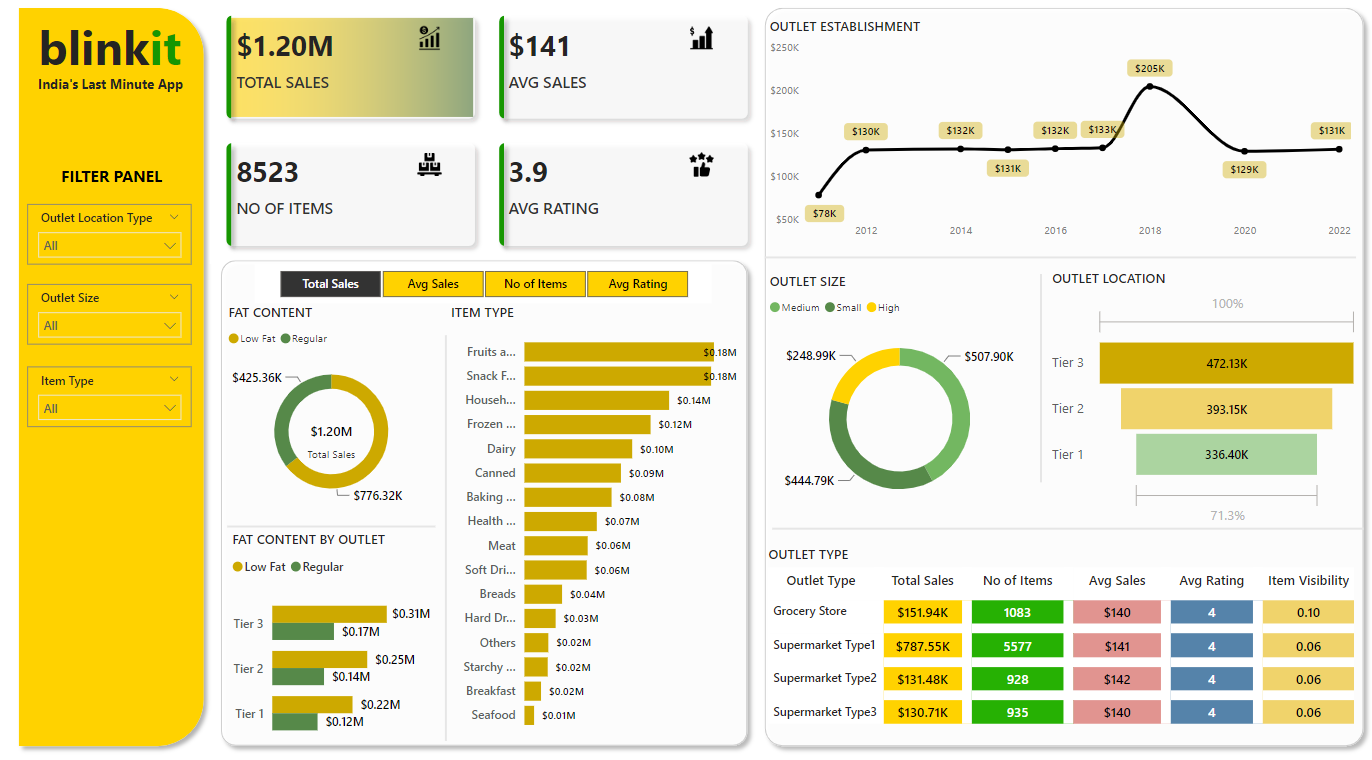

Layout of this report page (visuals, bound fields, positions):
{"tool":"powerbi","page":{"name":"Page 1","canvas":[1400,800],"ordinal":0},"visuals":[{"type":"shape","box":[13.4,25.5,206.4,769.2],"z":0},{"type":"textbox","box":[28.5,36,175.6,103.6],"z":1000},{"type":"textbox","box":[15,97.6,202.6,42],"z":2000},{"type":"cardVisual","fields":{"Data":["BlinkIT Grocery Data.Total Sales","BlinkIT Grocery Data.Avg Sales","BlinkIT Grocery Data.No of Items","BlinkIT Grocery Data.Avg Rating"]},"box":[217.1,25.5,565.5,269.3],"z":3000},{"type":"shape","box":[219.8,282.7,553.4,511.9],"z":4000},{"type":"donutChart","title":"FAT CONTENT","fields":{"Y":["BlinkIT Grocery Data.Total Sales"],"Category":["BlinkIT Grocery Data.Item Fat Content"]},"box":[231.8,335,219.8,217.1],"z":5000},{"type":"slicer","fields":{"Values":["Metrics.Metrics"]},"box":[262.6,294.8,465,40.2],"z":6000},{"type":"cardVisual","fields":{"Data":["BlinkIT Grocery Data.Total Sales"]},"box":[293.5,438.2,95.1,64.3],"z":7000},{"type":"clusteredBarChart","title":" FAT CONTENT BY OUTLET","fields":{"Y":["BlinkIT Grocery Data.Total Sales"],"Category":["BlinkIT Grocery Data.Outlet Location Type"],"Series":["BlinkIT Grocery Data.Item Fat Content"]},"box":[235.8,565.5,211.7,229.1],"z":8000},{"type":"shape","box":[235.8,549.4,211.7,25.5],"z":9000},{"type":"shape","box":[447.6,367.2,20.1,412.7],"z":10000},{"type":"barChart","title":"ITEM TYPE","fields":{"Y":["BlinkIT Grocery Data.Total Sales"],"Category":["BlinkIT Grocery Data.Item Type"]},"box":[458.3,335,301.5,444.9],"z":11000},{"type":"shape","box":[773.2,25.5,627.1,769.2],"z":12000},{"type":"lineChart","title":"OUTLET ESTABLISHMENT","fields":{"Y":["BlinkIT Grocery Data.Total Sales"],"Category":["BlinkIT Grocery Data.Outlet Establishment Year"]},"box":[782.6,42.9,601.7,234.5],"z":13000},{"type":"shape","box":[782.6,282.7,601.7,12.1],"z":15000},{"type":"donutChart","title":"OUTLET SIZE","fields":{"Y":["BlinkIT Grocery Data.Total Sales"],"Category":["BlinkIT Grocery Data.Outlet Size"]},"box":[782.2,302.7,274.7,254.4],"z":16000},{"type":"shape","box":[1056.9,305.2,12.7,212.4],"z":17000},{"type":"funnel","title":"OUTLET LOCATION","fields":{"Y":["Sum(BlinkIT Grocery Data.Sales)"],"Category":["BlinkIT Grocery Data.Outlet Location Type"]},"box":[1069.6,300.1,321.8,267.1],"z":18000},{"type":"shape","box":[789.3,558.8,601.7,12.1],"z":19000},{"type":"pivotTable","title":"OUTLET TYPE","fields":{"Rows":["BlinkIT Grocery Data.Outlet Type"],"Values":["BlinkIT Grocery Data.Total Sales","BlinkIT Grocery Data.No of Items","BlinkIT Grocery Data.Avg Sales","BlinkIT Grocery Data.Avg Rating","Avg(BlinkIT Grocery Data.Item Visibility)"]},"box":[781.2,581.6,609.7,217.1],"z":20000},{"type":"slicer","fields":{"Values":["BlinkIT Grocery Data.Outlet Location Type"]},"box":[32.2,234.5,167.5,61.6],"z":21000},{"type":"slicer","fields":{"Values":["BlinkIT Grocery Data.Outlet Size"]},"box":[32.2,314.9,167.5,61.6],"z":23000},{"type":"slicer","fields":{"Values":["BlinkIT Grocery Data.Item Type"]},"box":[32.2,399.3,167.5,61.6],"z":24000},{"type":"textbox","box":[45.6,188.9,143.4,33.5],"z":25000}]}

Visuals, with their boxes on the page's 1400x800 design canvas (x1, y1, x2, y2). These are canvas units, not pixel positions in the 1372x760 screenshot, which may show the page scaled, cropped or inside an application window:
shape: <box>13,26,220,795</box>
textbox: <box>28,36,204,140</box>
textbox: <box>15,98,218,140</box>
cardVisual - BlinkIT Grocery Data.Total Sales x BlinkIT Grocery Data.Avg Sales: <box>217,26,783,295</box>
shape: <box>220,283,773,795</box>
"FAT CONTENT" donutChart: <box>232,335,452,552</box>
slicer - Metrics.Metrics: <box>263,295,728,335</box>
cardVisual - BlinkIT Grocery Data.Total Sales: <box>294,438,389,502</box>
" FAT CONTENT BY OUTLET" clusteredBarChart: <box>236,566,448,795</box>
shape: <box>236,549,448,575</box>
shape: <box>448,367,468,780</box>
"ITEM TYPE" barChart: <box>458,335,760,780</box>
shape: <box>773,26,1400,795</box>
"OUTLET ESTABLISHMENT" lineChart: <box>783,43,1384,277</box>
shape: <box>783,283,1384,295</box>
"OUTLET SIZE" donutChart: <box>782,303,1057,557</box>
shape: <box>1057,305,1070,518</box>
"OUTLET LOCATION" funnel: <box>1070,300,1391,567</box>
shape: <box>789,559,1391,571</box>
"OUTLET TYPE" pivotTable: <box>781,582,1391,799</box>
slicer - BlinkIT Grocery Data.Outlet Location Type: <box>32,234,200,296</box>
slicer - BlinkIT Grocery Data.Outlet Size: <box>32,315,200,376</box>
slicer - BlinkIT Grocery Data.Item Type: <box>32,399,200,461</box>
textbox: <box>46,189,189,222</box>
